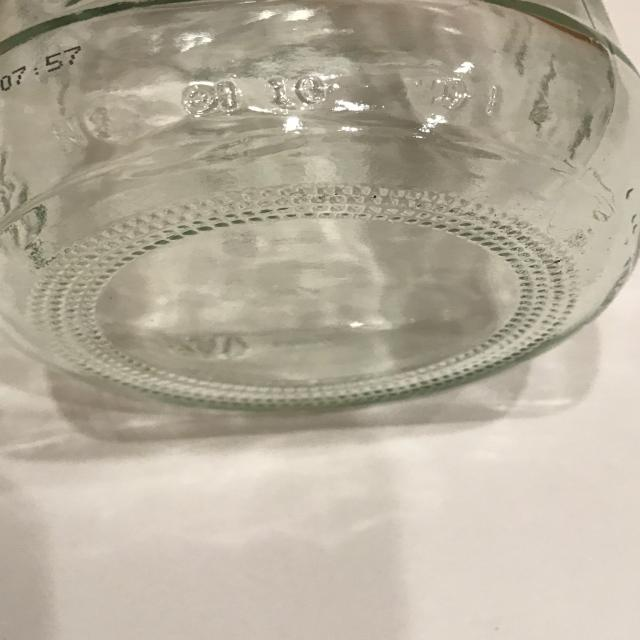glass: (0, 0, 639, 414)
